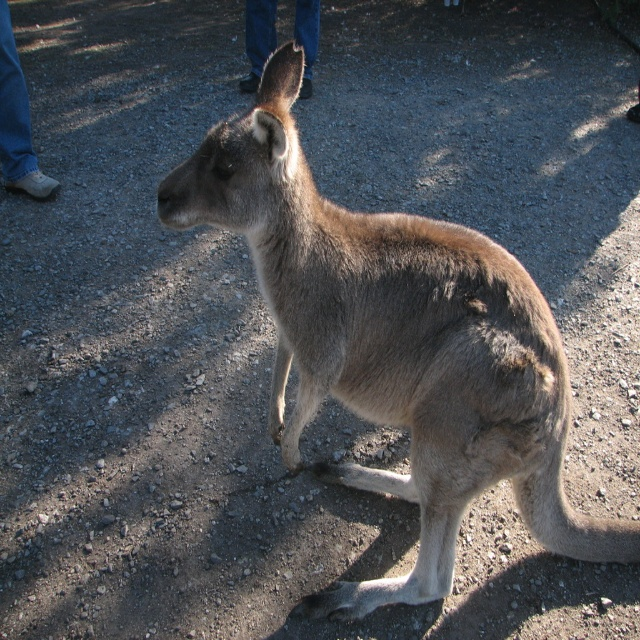Kangaroo: (156, 38, 640, 625)
